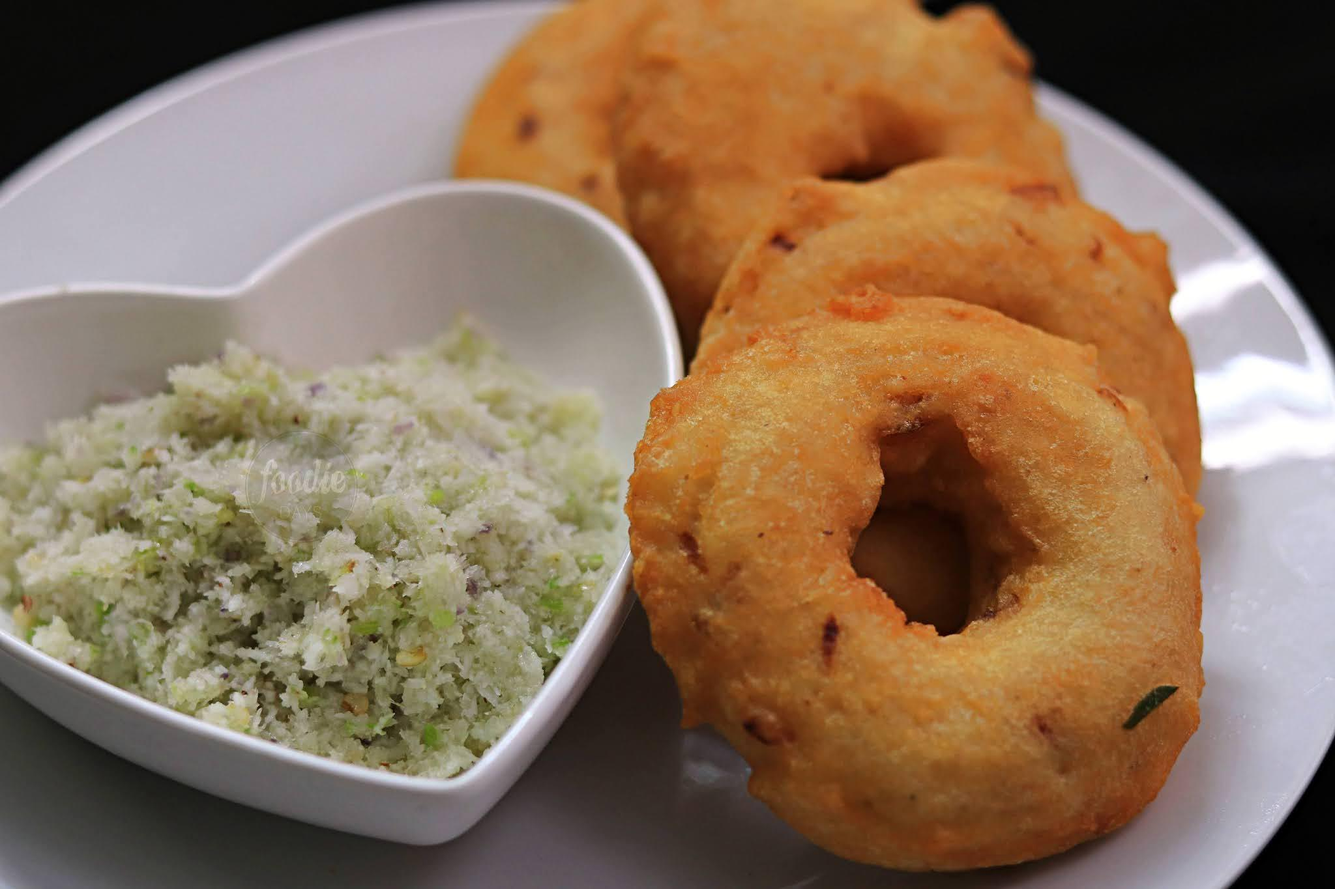mvada: (699, 21, 1207, 889)
